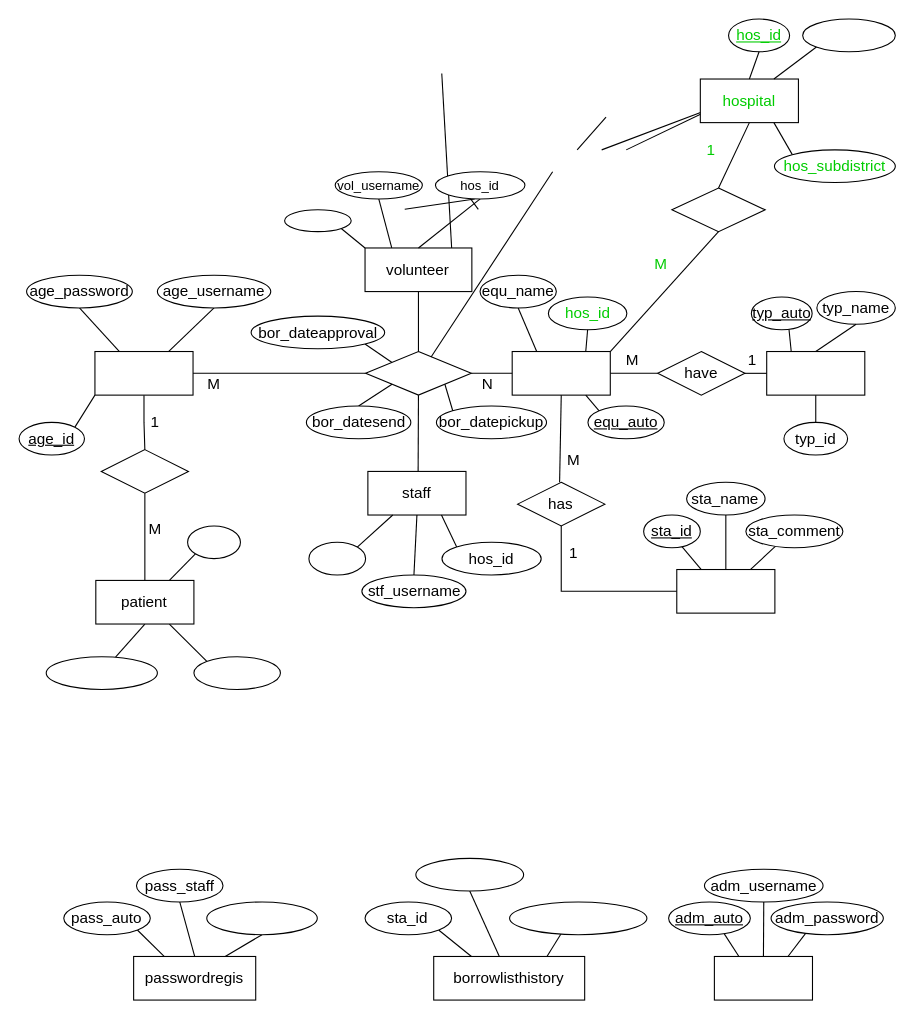
Some shapes in this 915 by 1019 pixel diagram are drawn without their labels. Each missing label, with the centre of its shape:
Admin: the point at 762,977
agent: the point at 143,372
belong to: the point at 718,209
borl_datereturned: the point at 577,918
borl_number: the point at 469,874
borrowlist: the point at 417,372
care: the point at 144,471
equipment: the point at 560,372
hos_name: the point at 848,35
pass_volunteer: the point at 261,918
pat_id: the point at 213,542
pat_numberhn: the point at 101,672
pat_phone: the point at 236,672
Status: the point at 725,590
stf_id: the point at 337,558
Type: the point at 815,372
vol_id: the point at 317,220
